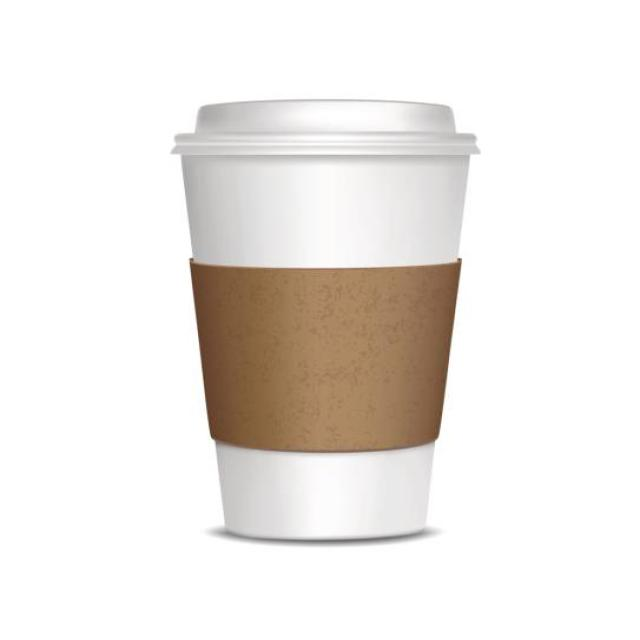cup: (164, 97, 480, 544)
